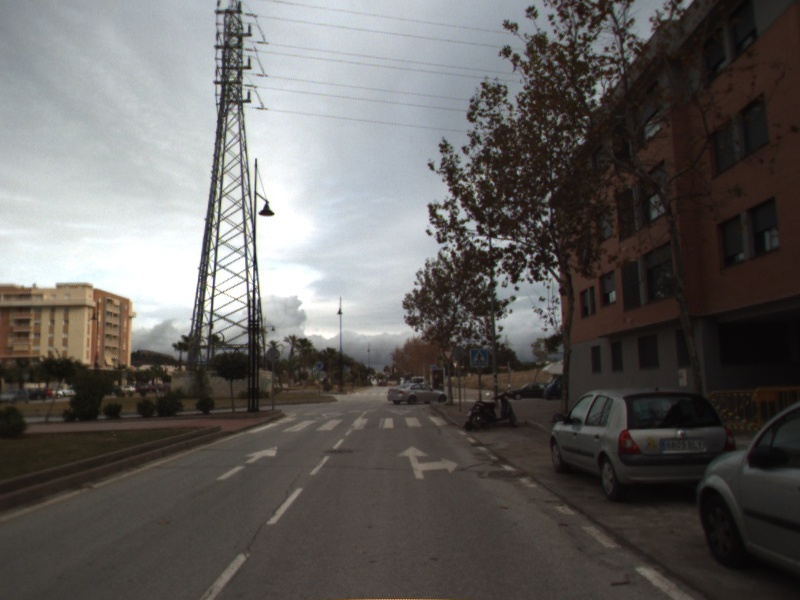STRAIGHT: (215, 444, 279, 482)
STRAIGHT_RIGHT: (395, 444, 460, 481)
